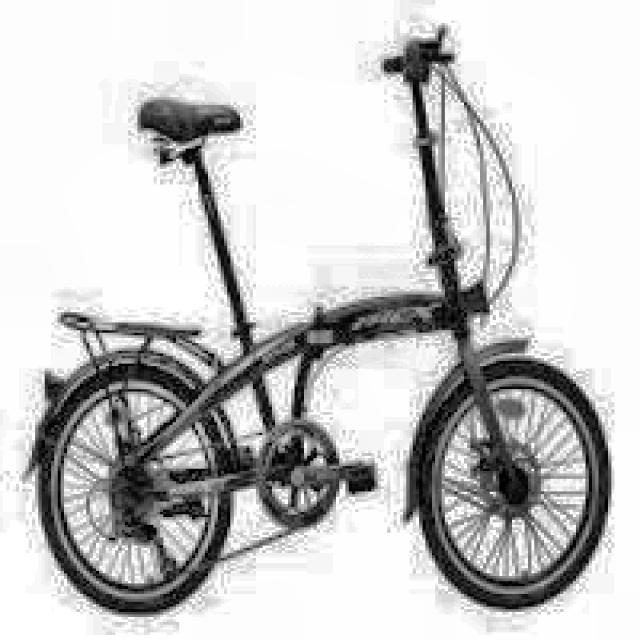motorcycle: (25, 30, 616, 623)
